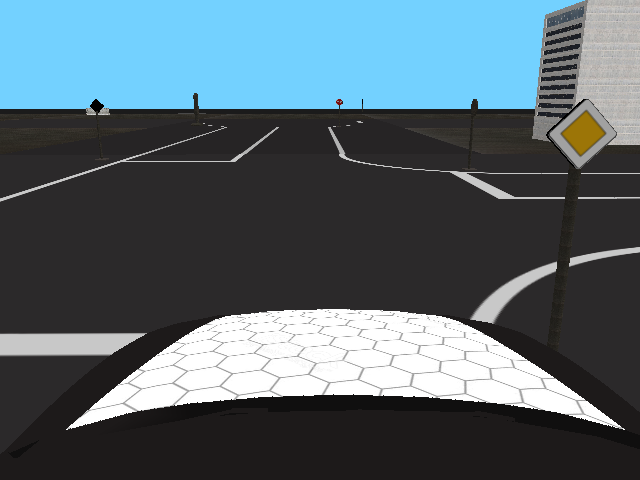priority: (548, 100, 617, 171)
